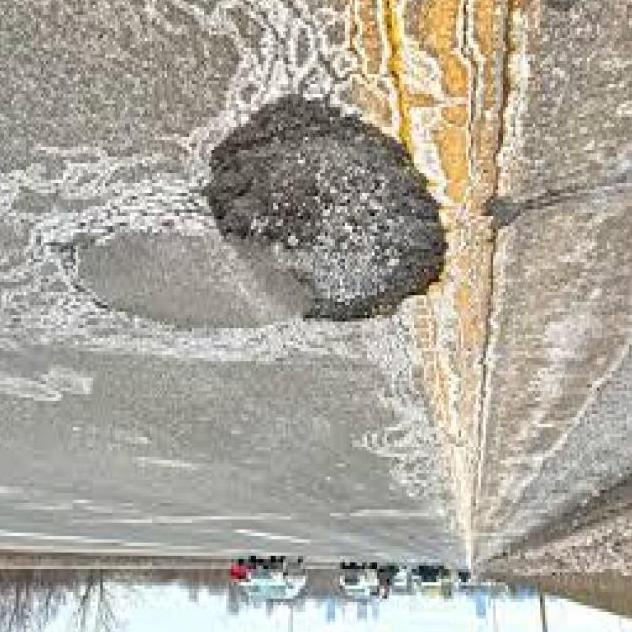pothole: (206, 91, 461, 341)
